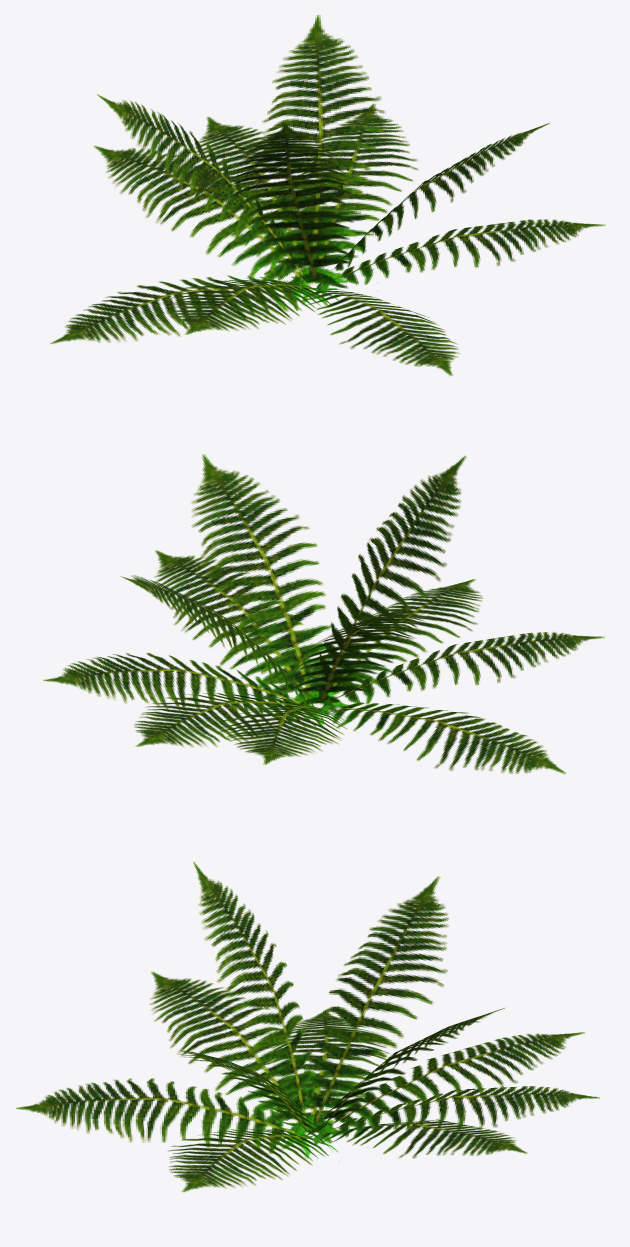
File: fern1.glb
3 views of the same model, one above another, from view 1: azimuth 30°, elevation 25°; view 2: azimuth 150°, elevation 25°; view 3: azimuth 270°, elevation 25° (orthographic).
Visible parts, largest first — view 1: Plane; view 2: Plane; view 3: Plane.
Boxes of the visible parts, x1,y1,x2,y2 form: Plane: (50, 15, 605, 376); Plane: (43, 454, 604, 774); Plane: (16, 861, 599, 1192).
Bounding box in the file's own units: 8.01 × 3.79 × 8.14.
Materials: 11 (11 with a texture image).
